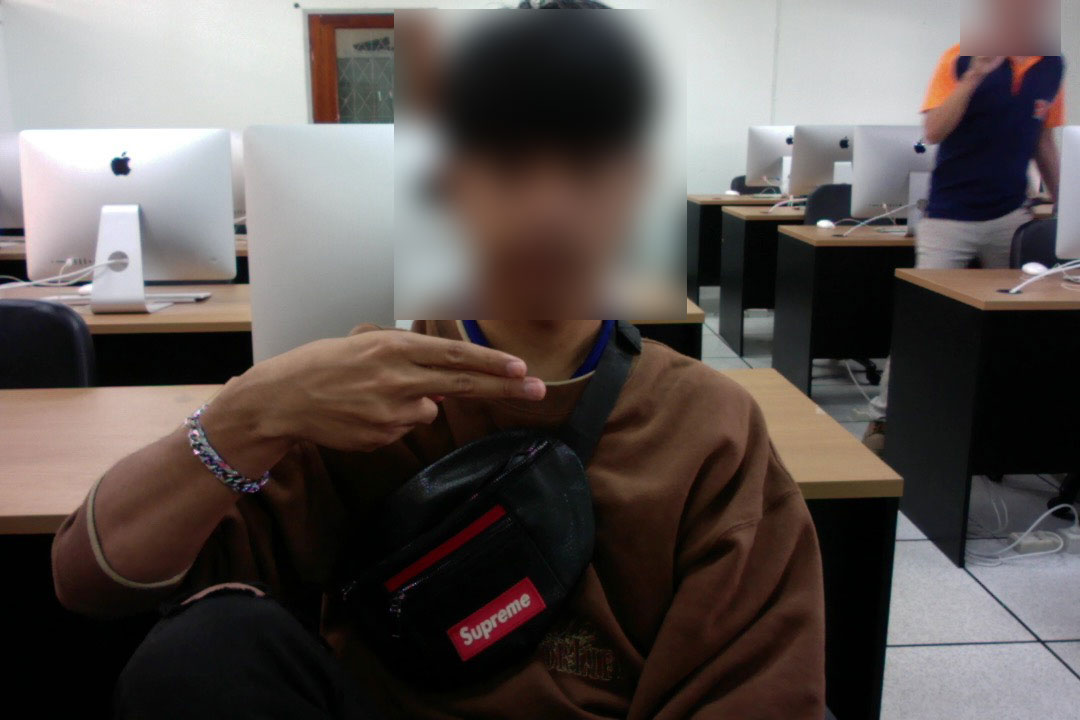hor: (256, 326, 556, 458)
